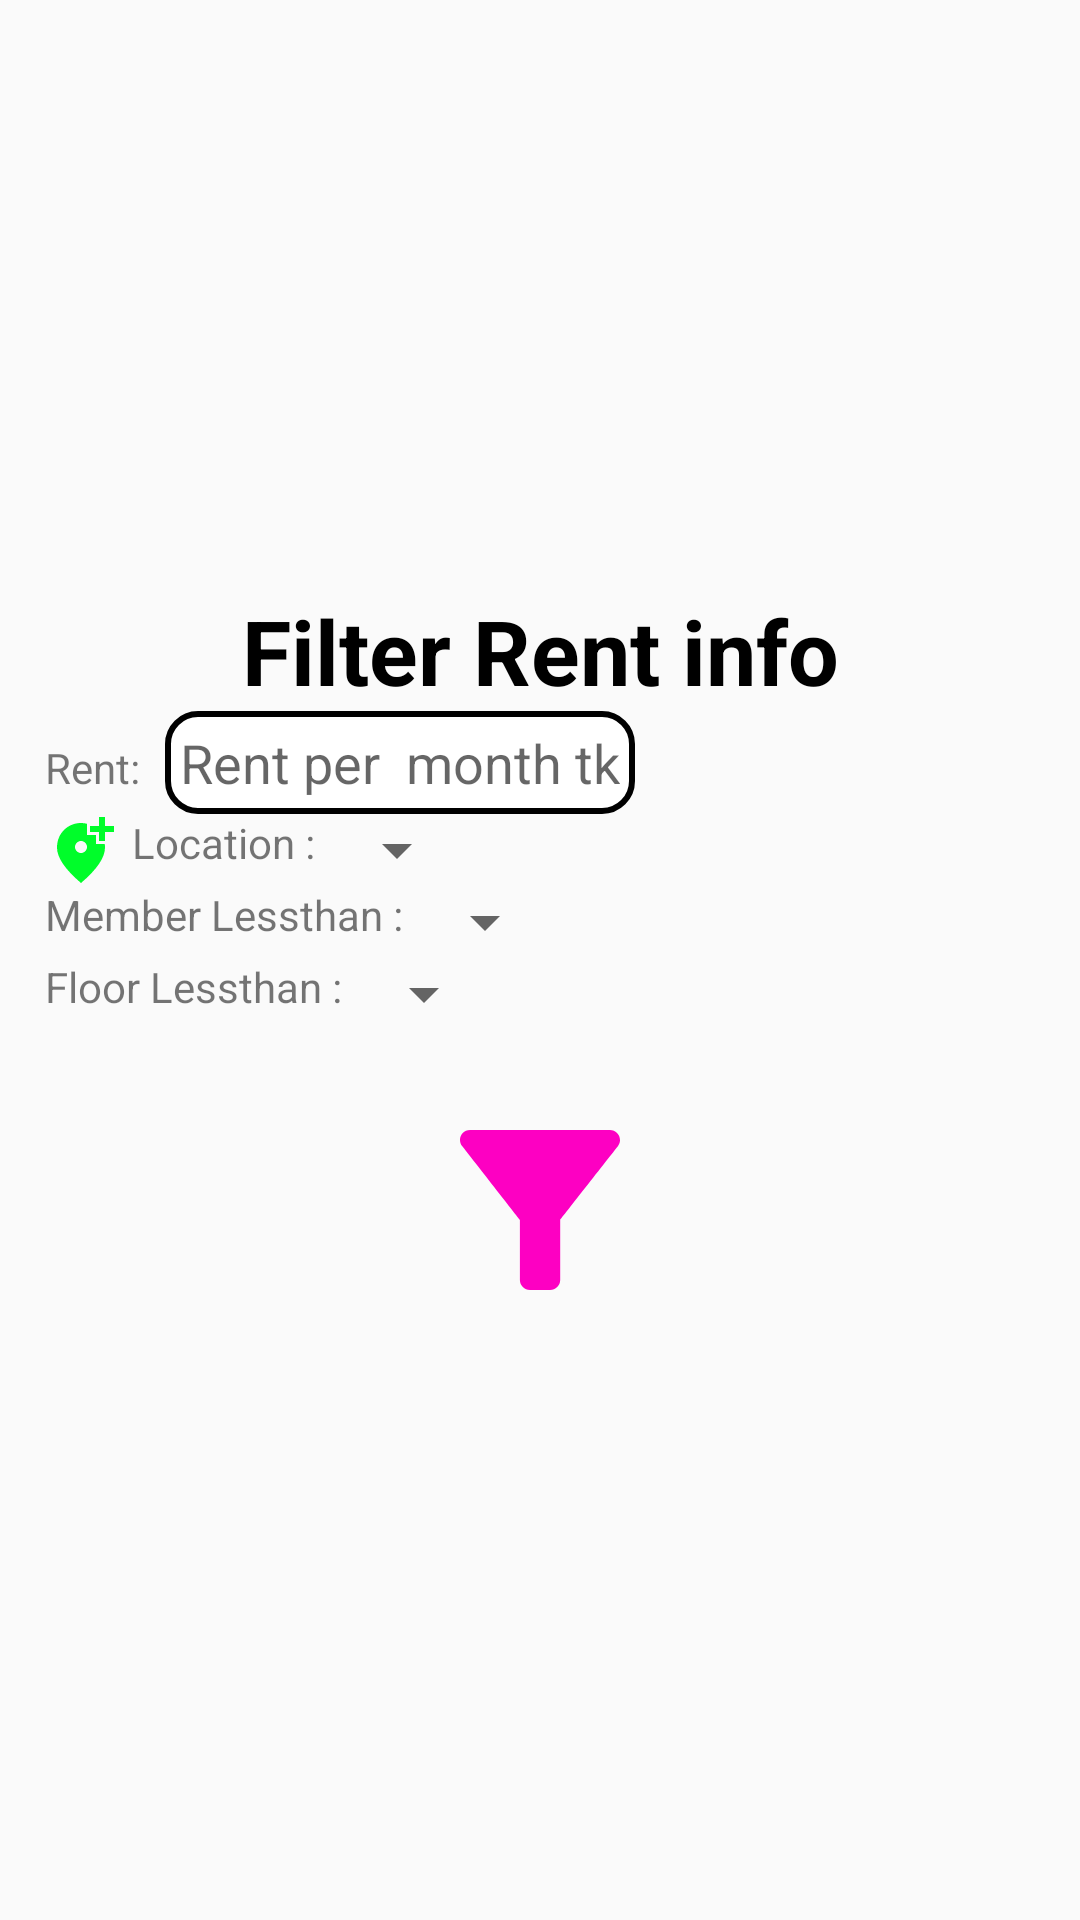

Screen size 1080 × 1920. Icon name, then its box in pixels as box(x1, y1, x2, y2):
filter: box(460, 1130, 620, 1290)
